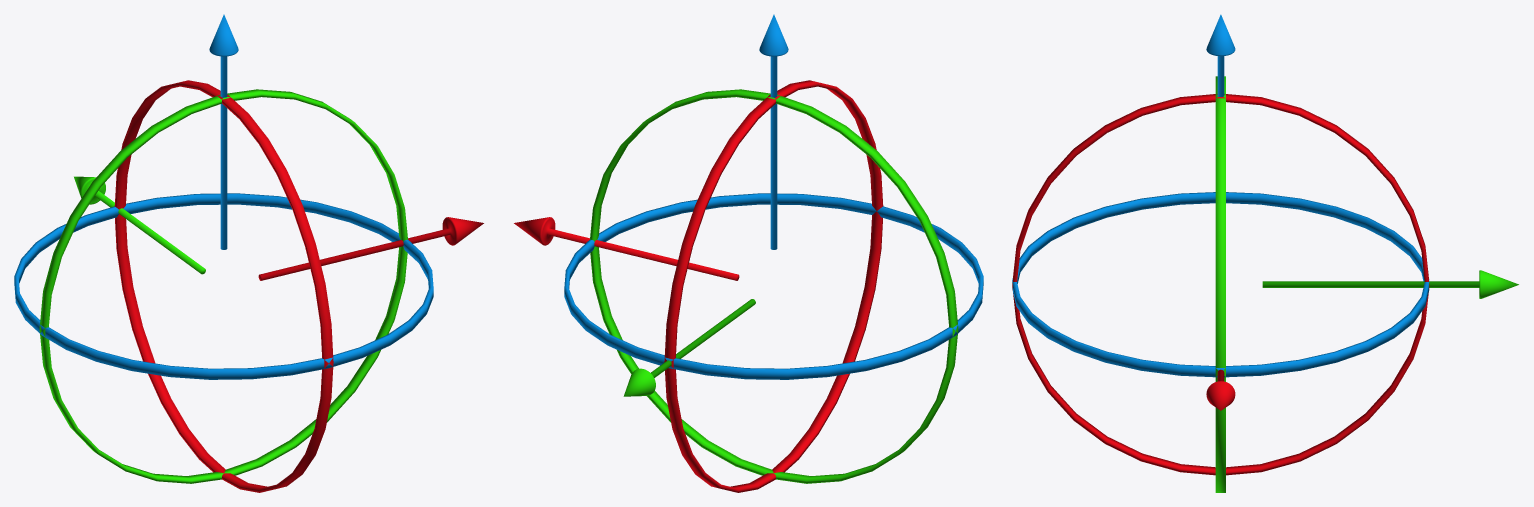
The model's file is Move_Control.glb.
3 views of the same model, side by side, from view 1: azimuth 30°, elevation 25°; view 2: azimuth 150°, elevation 25°; view 3: azimuth 270°, elevation 25° (orthographic).
Parts seen in each view (by area): view 1: Rotation_X, Rotation_Z, Rotation_Y, Eje_Z, Eje_X, Eje_Y; view 2: Rotation_X, Rotation_Z, Rotation_Y, Eje_Z, Eje_X, Eje_Y; view 3: Rotation_Z, Rotation_X, Rotation_Y, Eje_Y, Eje_Z, Eje_X.
Part boxes in pixels (x1,y1,x2,y2): Rotation_X: [114, 80, 333, 492]; Rotation_Z: [14, 193, 433, 379]; Rotation_Y: [39, 89, 407, 483]; Eje_Z: [209, 14, 238, 249]; Eje_X: [258, 217, 483, 280]; Eje_Y: [74, 176, 205, 274]; Rotation_X: [664, 80, 883, 492]; Rotation_Z: [564, 193, 983, 379]; Rotation_Y: [590, 89, 958, 483]; Eje_Z: [759, 14, 788, 249]; Eje_X: [514, 217, 739, 280]; Eje_Y: [623, 299, 755, 396]; Rotation_Z: [1012, 192, 1429, 377]; Rotation_X: [1012, 94, 1429, 475]; Rotation_Y: [1215, 76, 1225, 492]; Eje_Y: [1262, 270, 1518, 298]; Eje_Z: [1206, 14, 1235, 96]; Eje_X: [1206, 369, 1235, 410].
Bounding box in the file's own units: 0.1236 × 0.1236 × 0.1236.
